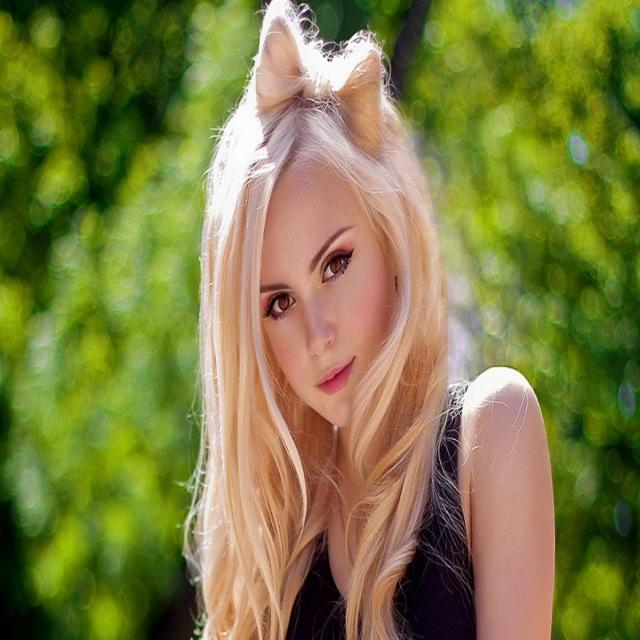mobile_phonerotation: (179, 1, 557, 637)
